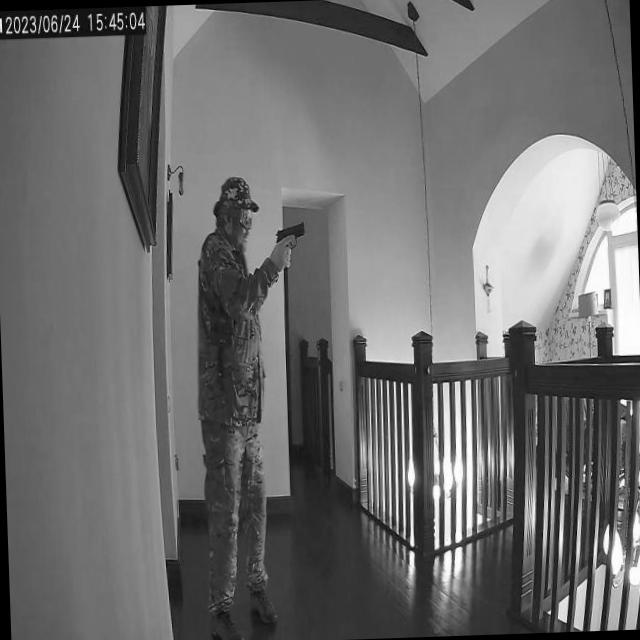gun: (274, 221, 307, 259)
person with a gun: (189, 173, 276, 640)
